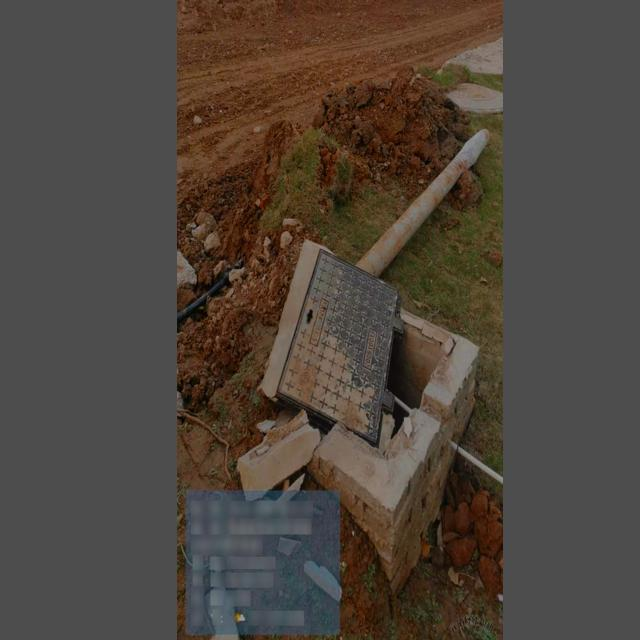circle: (244, 235, 464, 492)
